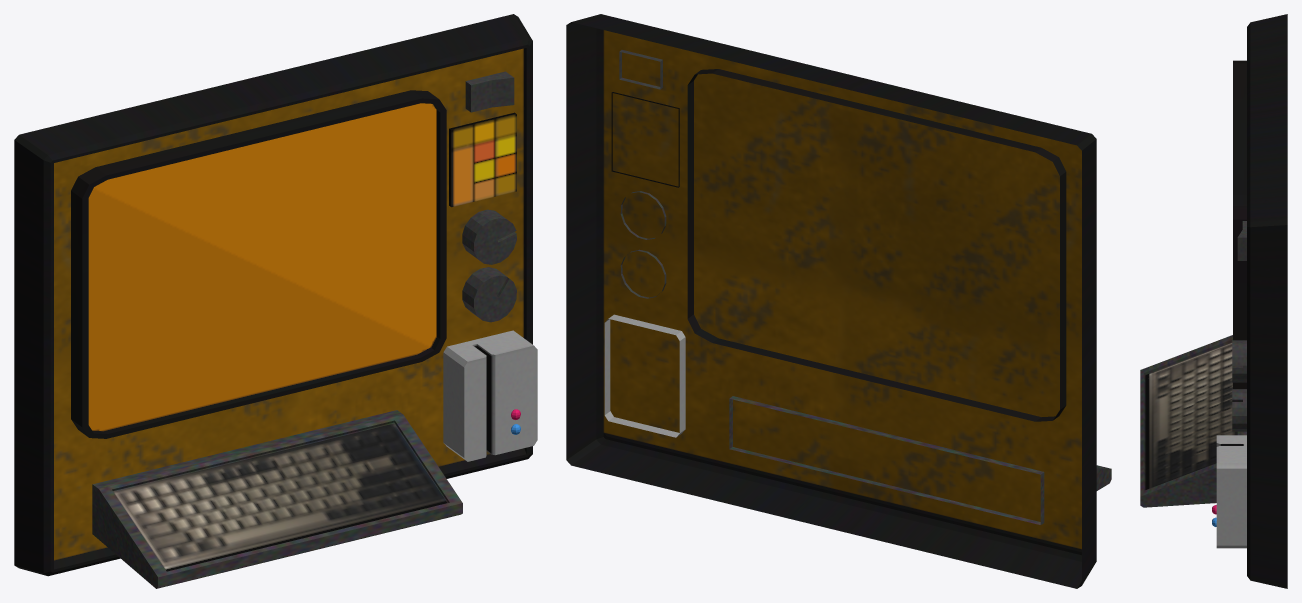
File: log_monitor.glb
3 renders of one model, left to right at view 1: azimuth 30°, elevation 25°; view 2: azimuth 150°, elevation 25°; view 3: azimuth 270°, elevation 25°, orthographic. The views are drawn at different scales.
Visible parts, largest first — view 1: LogMonitor; view 2: LogMonitor; view 3: LogMonitor.
Boxes of the visible parts, <box> form: LogMonitor: <box>14,14,537,588</box>; LogMonitor: <box>566,14,1111,588</box>; LogMonitor: <box>1140,14,1287,588</box>.
Size of the model in its own units: 0.6754 by 0.5552 by 0.2006.
1 material, 1 textured.
